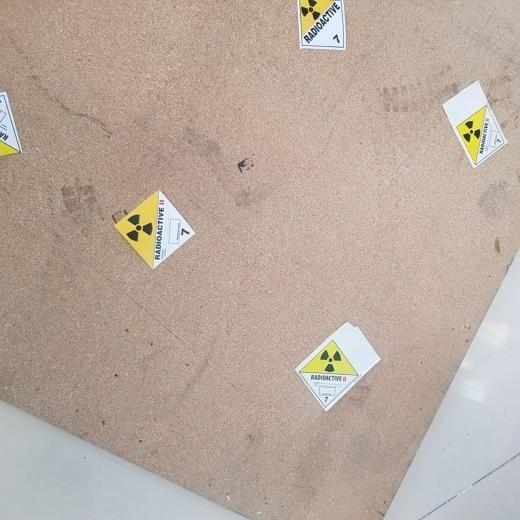radioactive: (112, 189, 198, 271), (297, 338, 361, 413), (454, 105, 506, 168), (297, 1, 345, 50)
